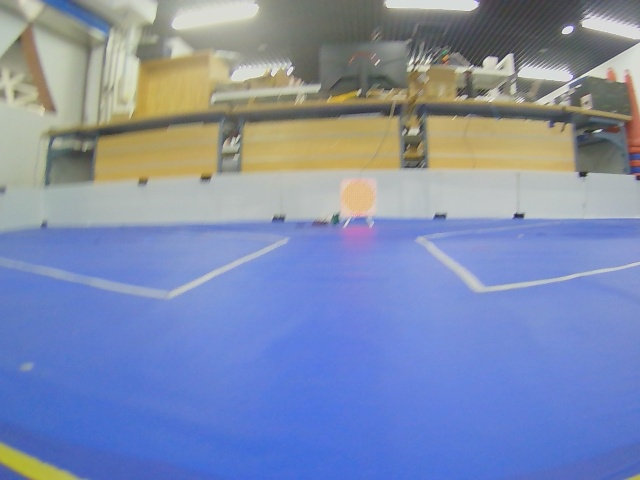red: (340, 178, 377, 218)
